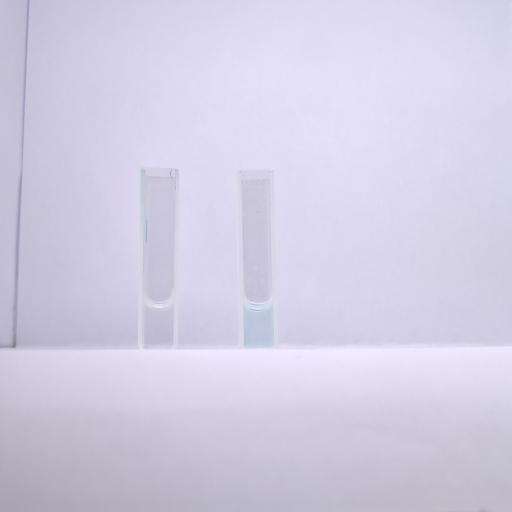cuvette: (235, 167, 279, 353), (138, 164, 180, 351)
liquid: (244, 303, 274, 348), (144, 301, 173, 347)
